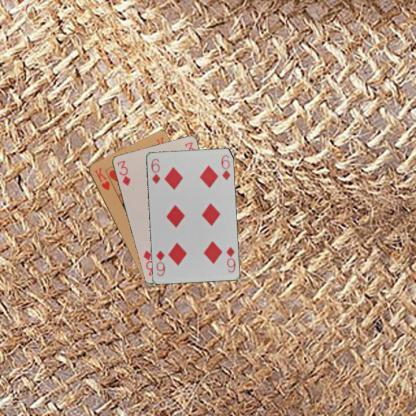3d: (114, 158, 132, 186)
6d: (148, 156, 162, 185), (224, 244, 236, 273)
Kh: (91, 164, 111, 192)
